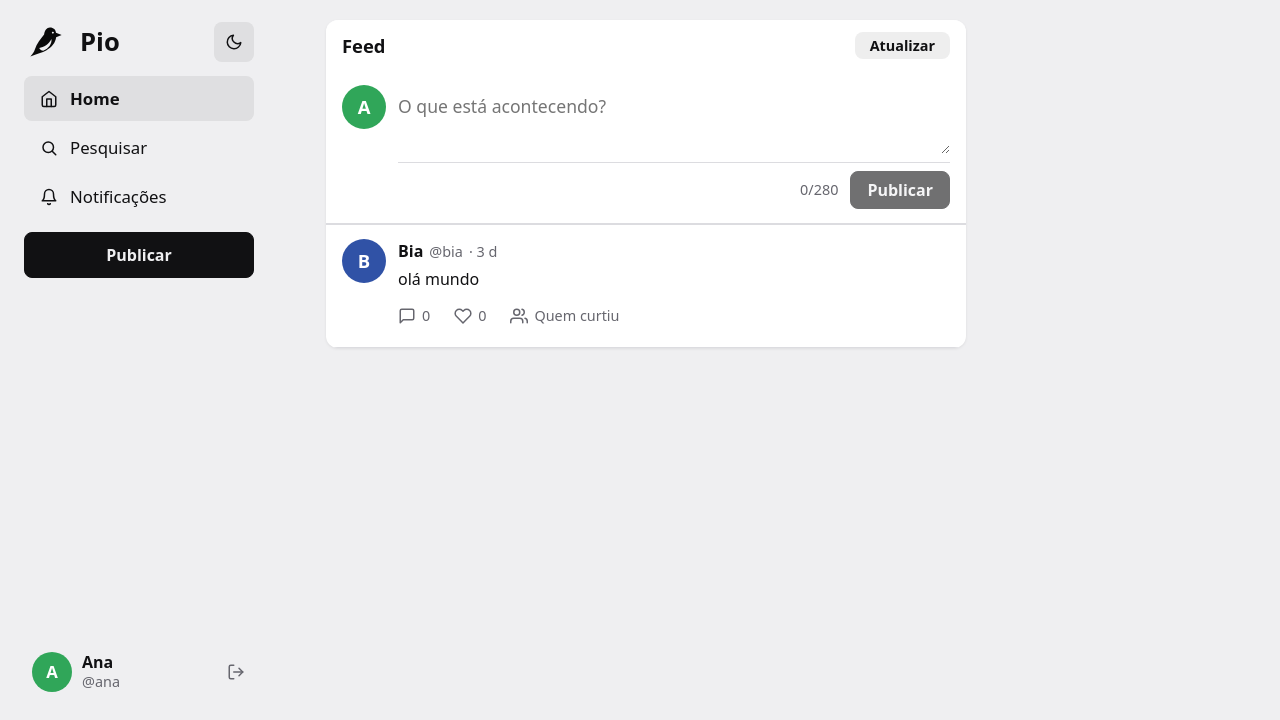
Test: feed › se a curtida falhar no servidor, a mudança otimista é desfeita
The width and height of the screenshot is (1280, 720).
Step 1. Click the button named "Curtir (0)" → coordinates (470, 316), box x1=444 y1=299 x2=496 y2=333
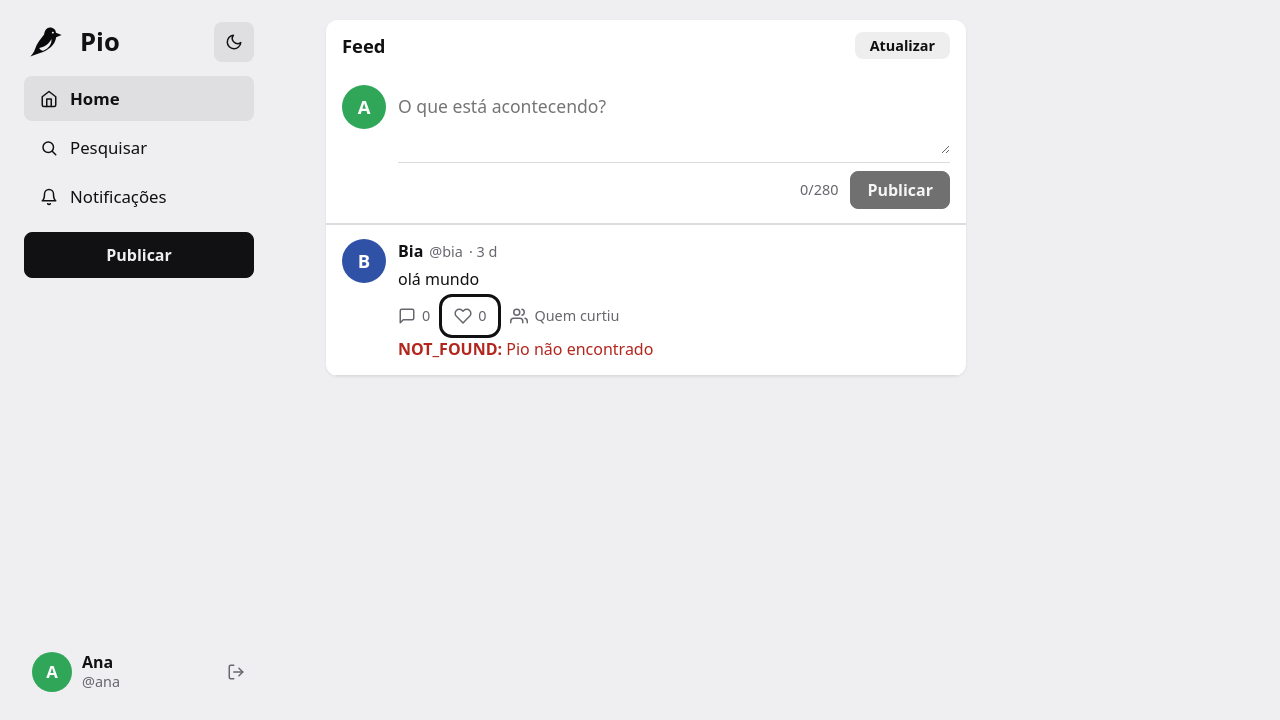
Expected: the message shows "Pio não encontrado", x1=506 y1=338 x2=653 y2=360
